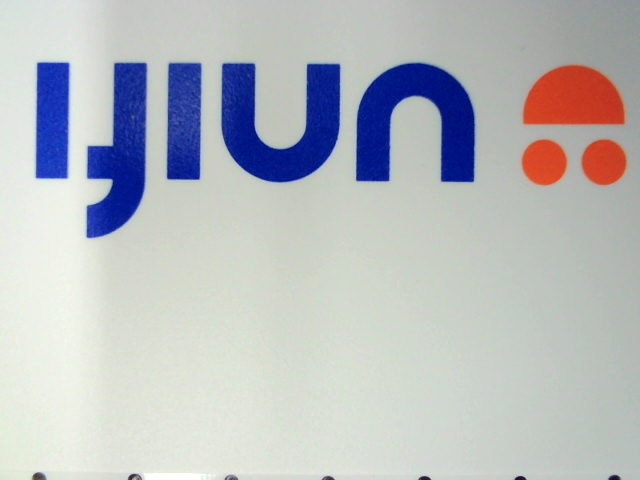BN_unifi: (20, 37, 628, 241)
